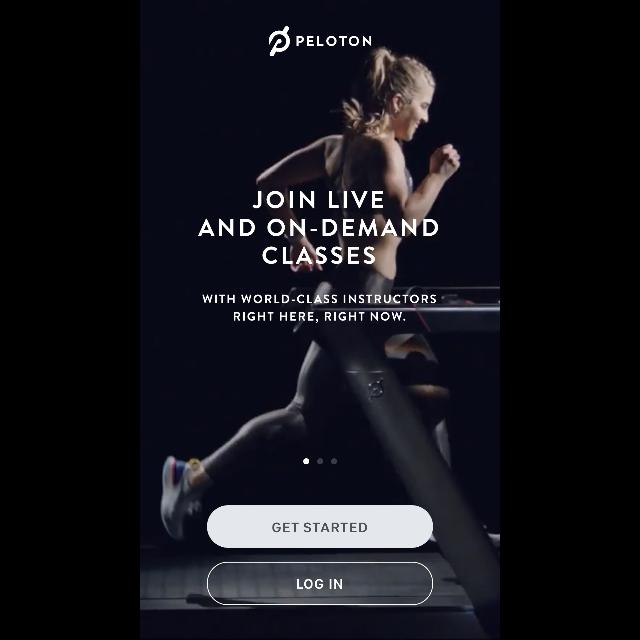backgroundimage: (140, 1, 500, 640)
image: (270, 26, 290, 56)
pageindicator: (303, 458, 337, 464)
text: (198, 192, 438, 264), (202, 295, 436, 323), (296, 36, 372, 46)
textbutton: (207, 561, 433, 605), (207, 506, 433, 548)
